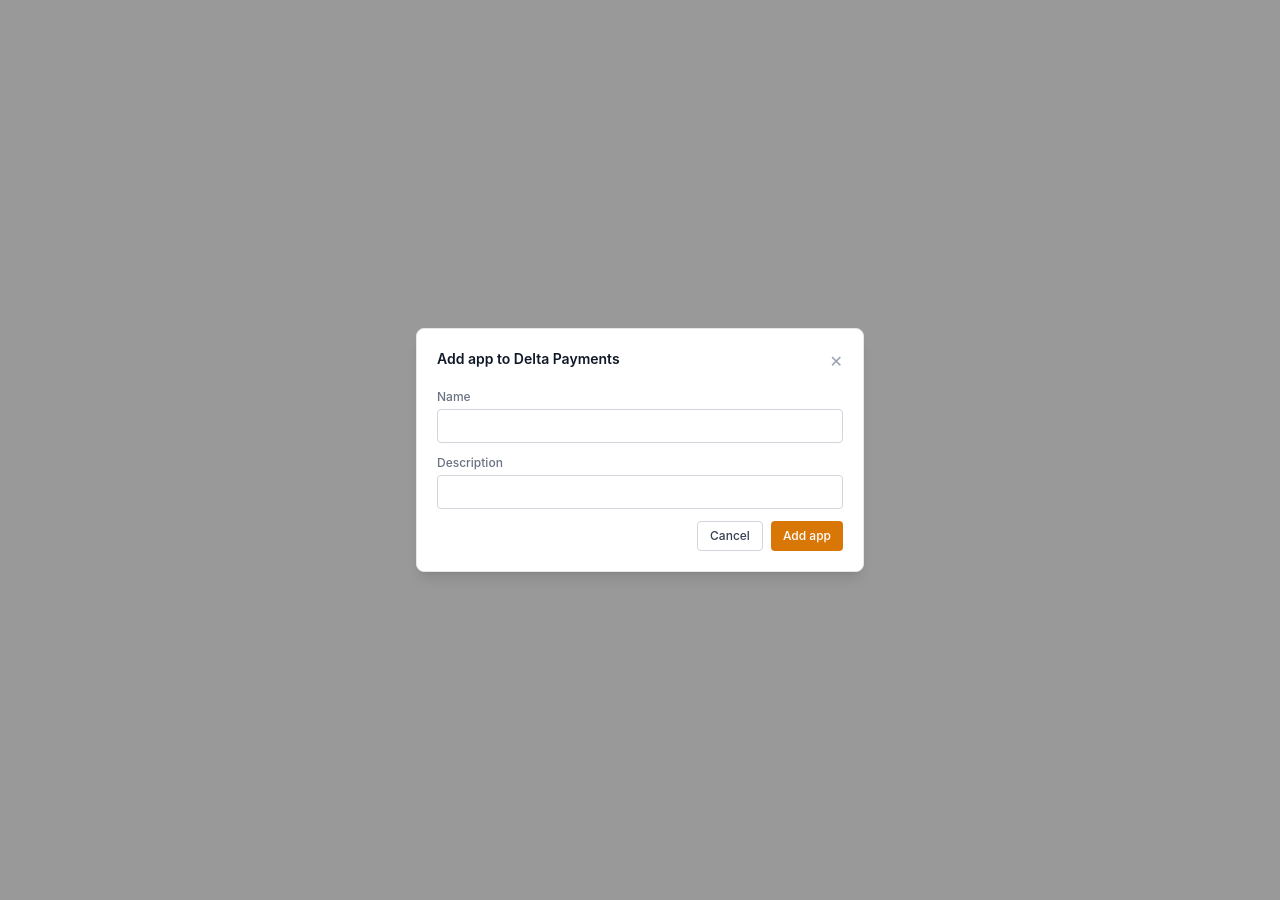
Test: AppFormModal › shows inline feedback and does not save when name is blank
Click the button with test id "app-modal-submit": (807, 536) 771,521 -> 843,551
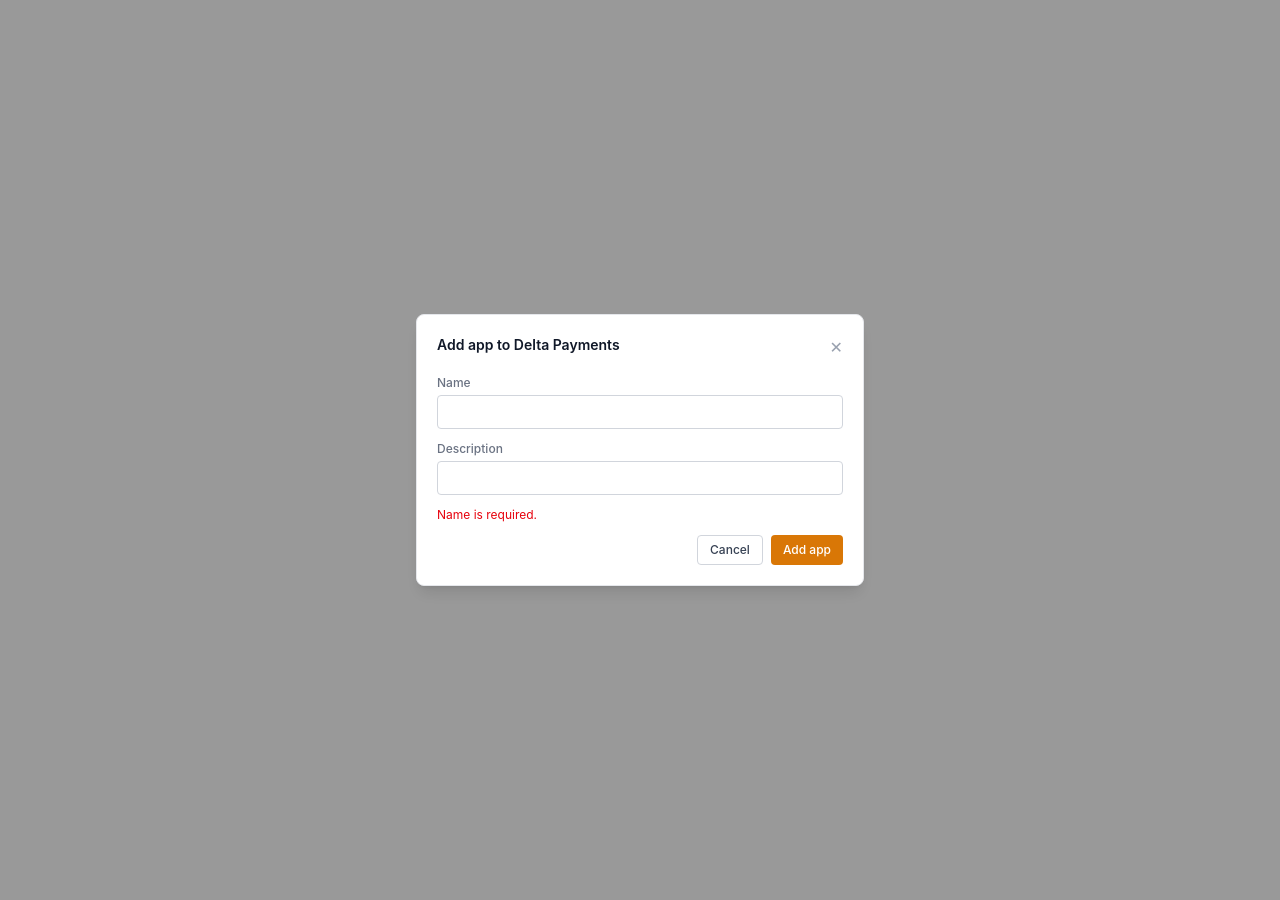
Expected: the text "Name is required." is shown, 437,507 -> 537,522
